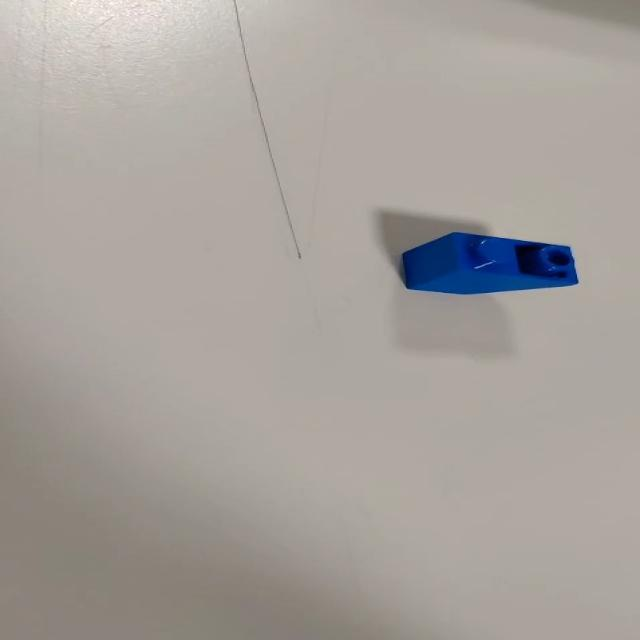X1x2x1: (395, 232, 590, 302)
